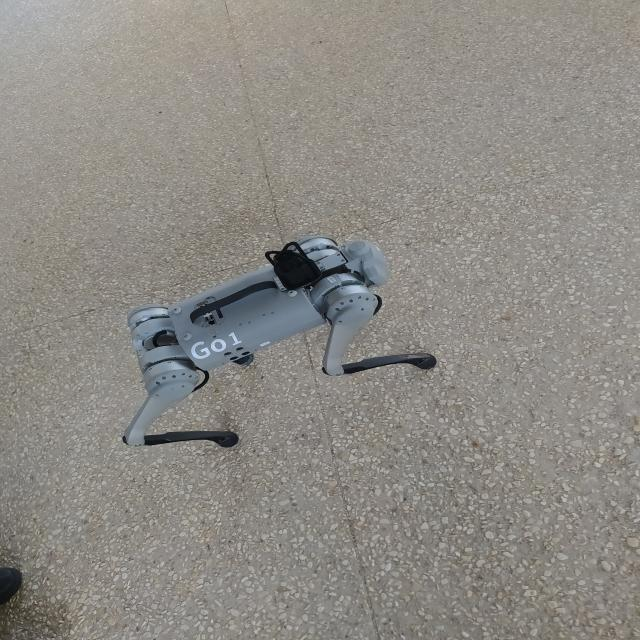unitree-go1-robot: (99, 225, 462, 458)
